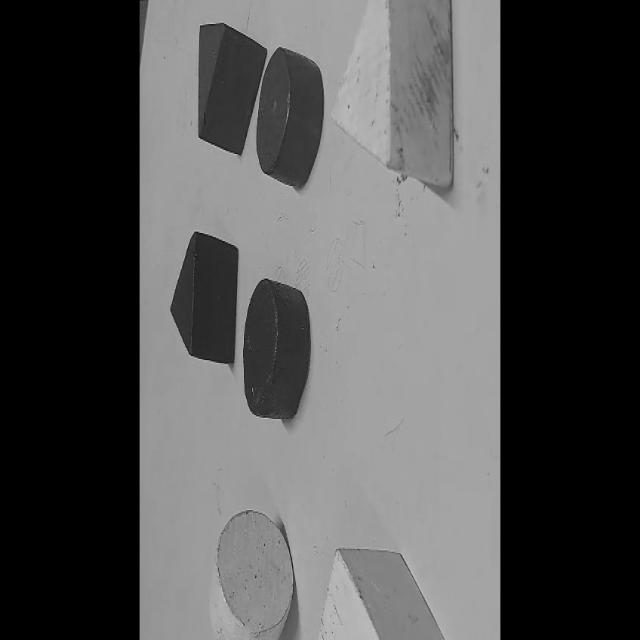rcube: (255, 46, 325, 190), (197, 22, 267, 158)
